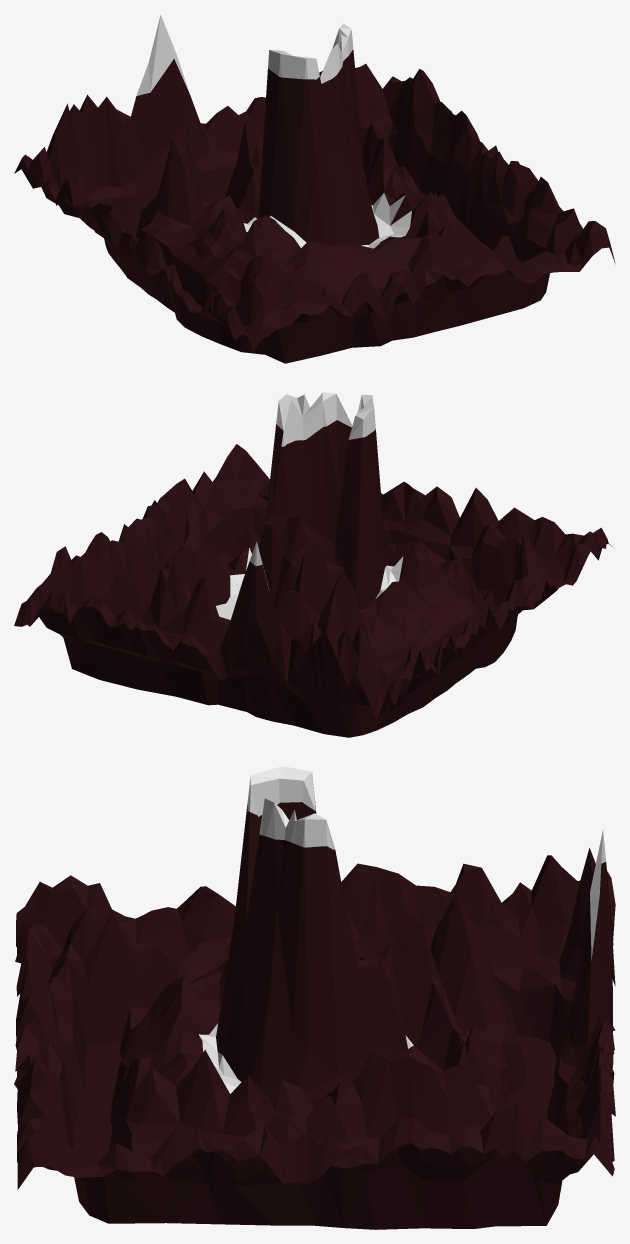
Rendered from top_fox_proto_level_low_poly.fbx.
3 views of the same model, one above another, from view 1: azimuth 30°, elevation 25°; view 2: azimuth 150°, elevation 25°; view 3: azimuth 270°, elevation 25° (orthographic). The views are drawn at different scales.
Parts seen in each view (by area): view 1: Terrain; view 2: Terrain; view 3: Terrain.
Boxes of the visible parts, x1,y1,x2,y2 form: Terrain: (14,15,615,363); Terrain: (14,392,614,737); Terrain: (14,766,615,1229).
Size of the model in its own units: 101172 by 60174 by 100999.
